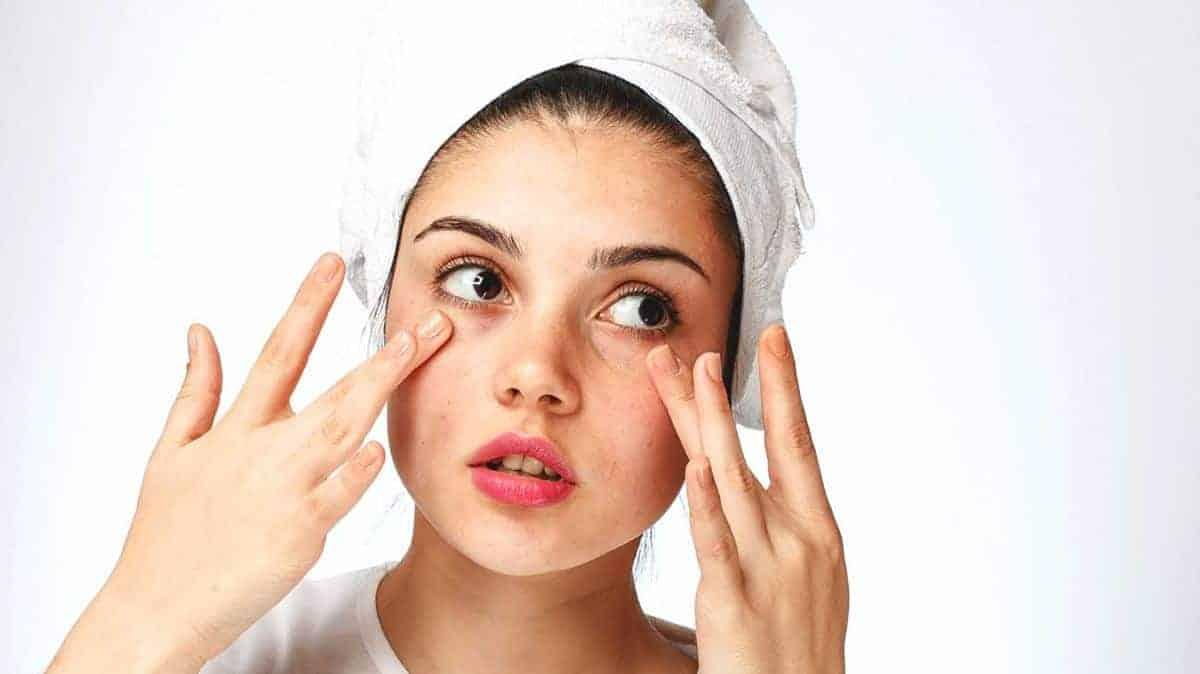Dry-Skin: (397, 353, 557, 570), (571, 347, 694, 566)
